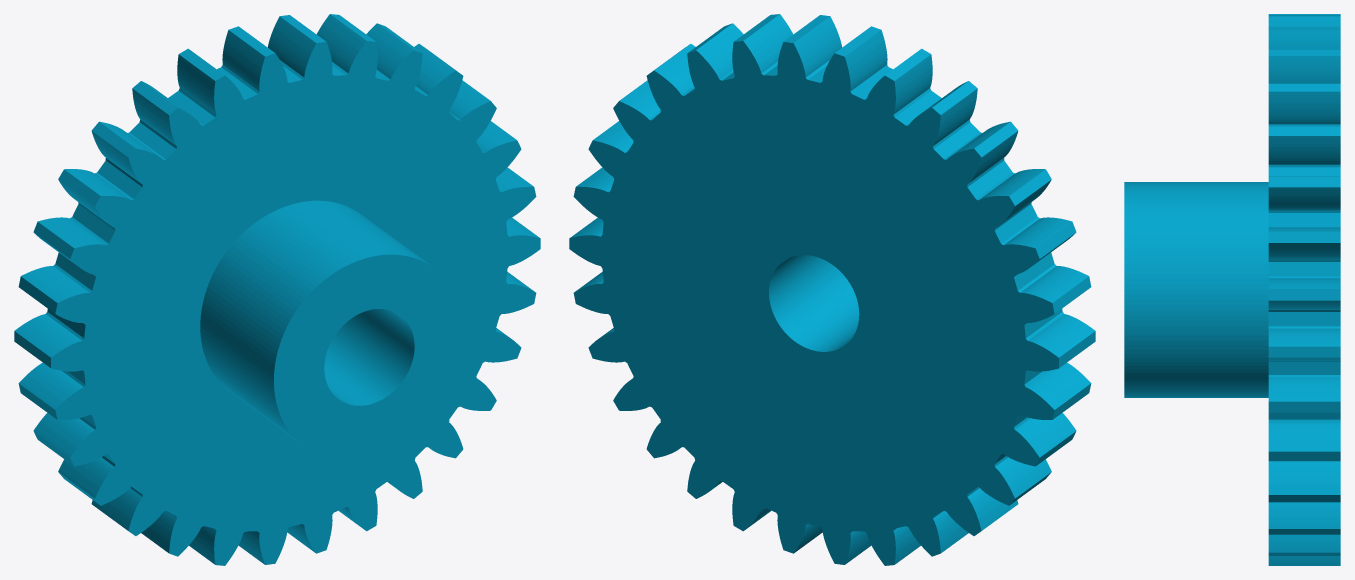
Rendered from gear_pair_blue.obj.
3 renders of one model, left to right at view 1: azimuth 30°, elevation 25°; view 2: azimuth 150°, elevation 25°; view 3: azimuth 270°, elevation 25°, orthographic. The views are drawn at different scales.
Visible parts, largest first — view 1: gear_pair_blue; view 2: gear_pair_blue; view 3: gear_pair_blue.
Boxes of the visible parts, x1,y1,x2,y2 form: gear_pair_blue: (14,14,540,565); gear_pair_blue: (569,14,1095,565); gear_pair_blue: (1124,14,1340,565).
Bounding box in the file's own units: 0.0768 × 0.0765 × 0.03.
